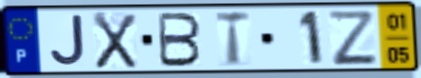1: (297, 9, 326, 68)
B: (156, 11, 203, 69)
J: (48, 13, 87, 68)
T: (213, 9, 252, 69)
X: (90, 10, 139, 71)
Z: (325, 9, 380, 67)
